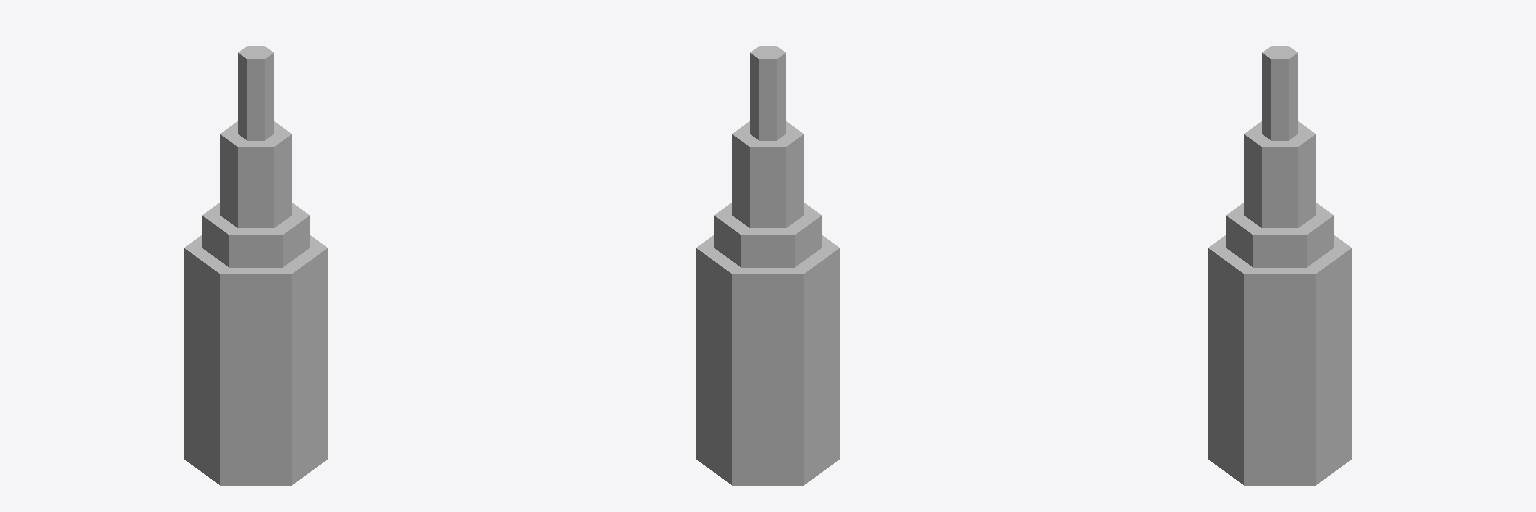
File: green_bottle.obj
3 views of the same model, side by side, from view 1: azimuth 30°, elevation 25°; view 2: azimuth 150°, elevation 25°; view 3: azimuth 270°, elevation 25° (orthographic).
Parts seen in each view (by area): view 1: bottom, top, middle, cap; view 2: bottom, top, middle, cap; view 3: bottom, top, middle, cap.
Boxes of the visible parts, box(x1,y1,x2,y2) form: bottom: box(184, 235, 327, 485); top: box(220, 121, 291, 227); middle: box(202, 203, 309, 267); cap: box(238, 46, 273, 140); bottom: box(696, 235, 839, 485); top: box(732, 121, 803, 227); middle: box(714, 203, 821, 267); cap: box(750, 46, 785, 140); bottom: box(1208, 235, 1351, 485); top: box(1244, 121, 1315, 227); middle: box(1226, 203, 1333, 267); cap: box(1262, 46, 1297, 140).
Size of the model in its own units: 0.2165 by 0.7812 by 0.25.